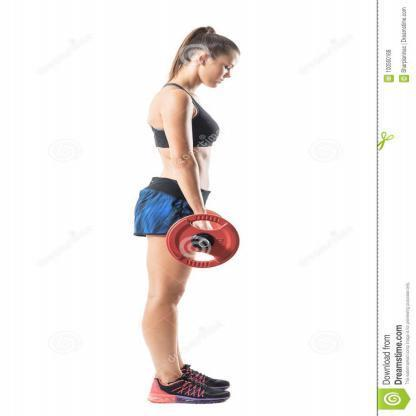barbell: (166, 212, 241, 268)
